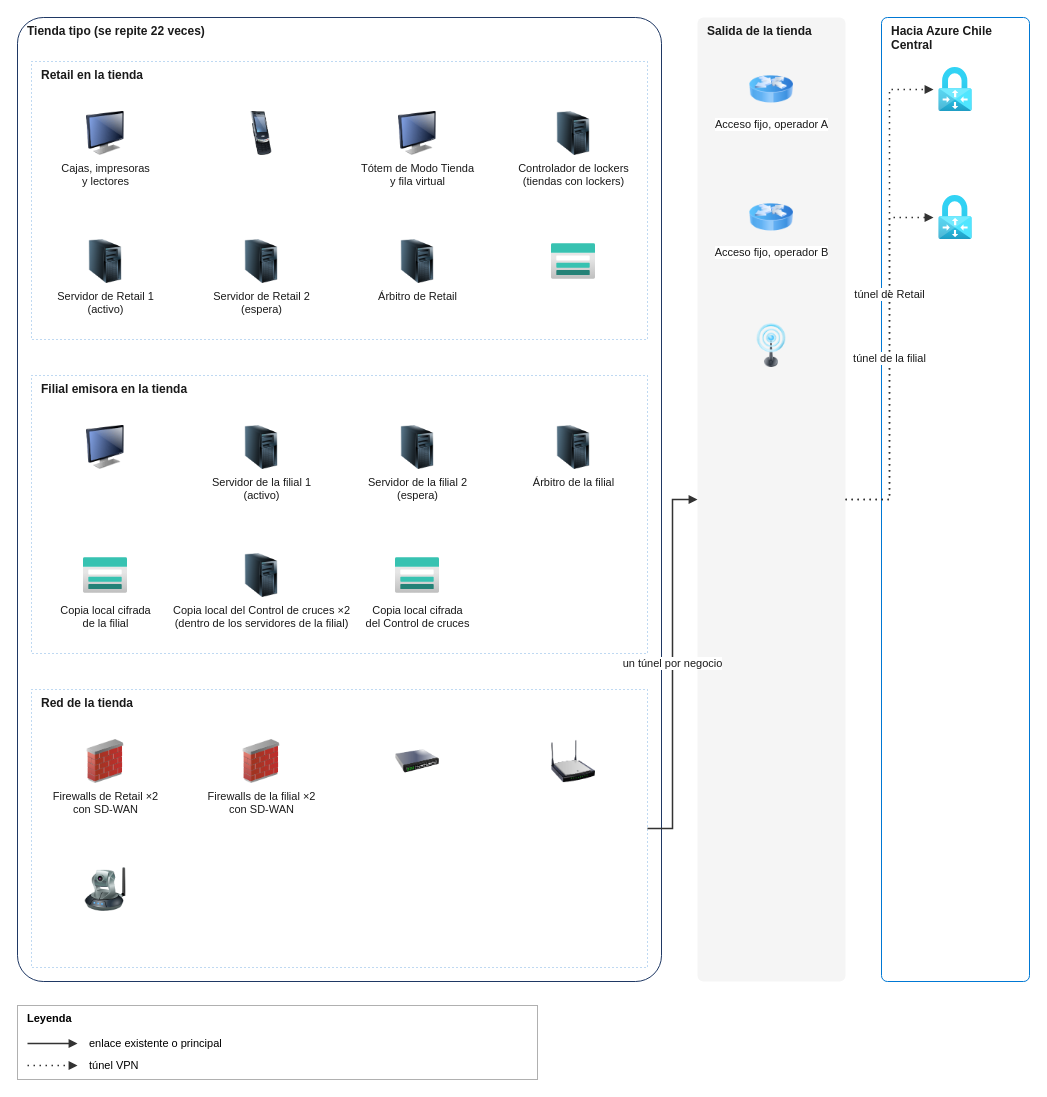
Some shapes in this 1047 by 1097 pixel diagram are drawn without their labels. Each missing label, with the centre of its shape:
Copia local cifrada de Retail: the point at 573,261
Cámaras y grabador local (30 días): the point at 105,889
Puntos inalámbricos corporativos: the point at 573,761
Router de respaldo 4G/5G (doble SIM): the point at 771,345
Switches ×4 (dos por negocio): the point at 417,761
Terminales del mesón de crédito: the point at 105,447
Terminales móviles: the point at 261,133
VPN Gateway de la filial: the point at 955,217
VPN Gateway de Retail: the point at 955,89
